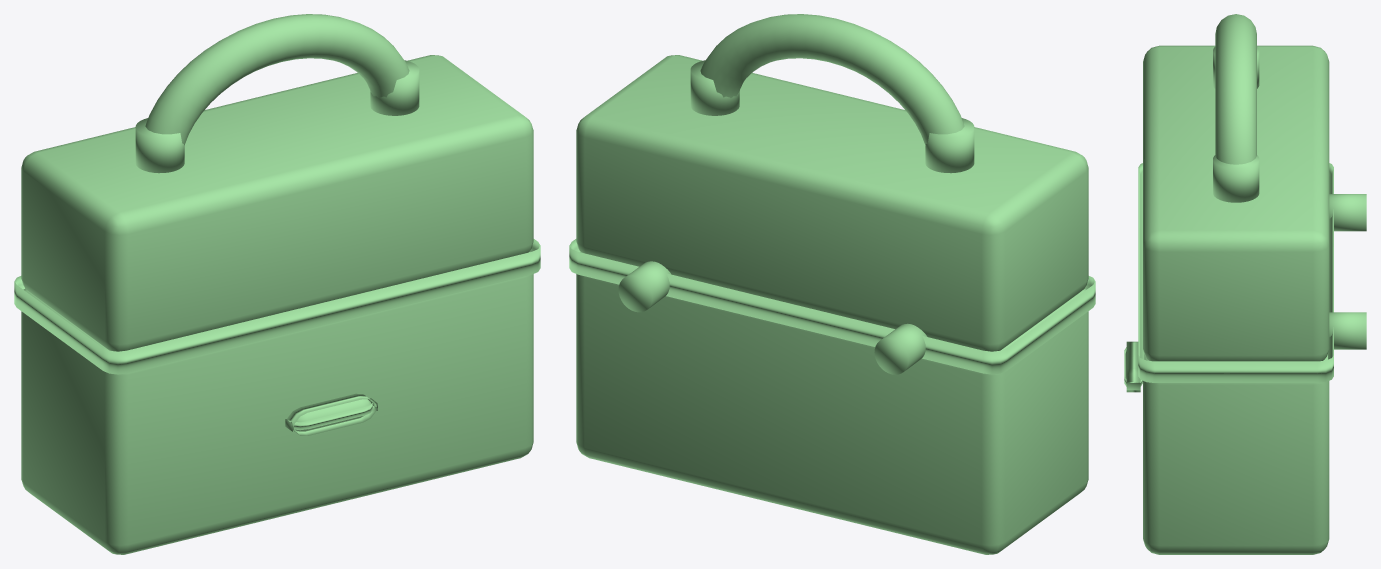
File: secondgreenlunchbox.fbx
3 views of the same model, side by side, from view 1: azimuth 30°, elevation 25°; view 2: azimuth 150°, elevation 25°; view 3: azimuth 270°, elevation 25° (orthographic). The views are drawn at different scales.
Visible parts, largest first — view 1: GreenLunchbox; view 2: GreenLunchbox; view 3: GreenLunchbox.
Boxes of the visible parts, x1,y1,x2,y2 form: GreenLunchbox: [14, 14, 540, 554]; GreenLunchbox: [569, 14, 1095, 554]; GreenLunchbox: [1124, 14, 1366, 554].
Size of the model in its own units: 20.4 by 20.4 by 10.4.
